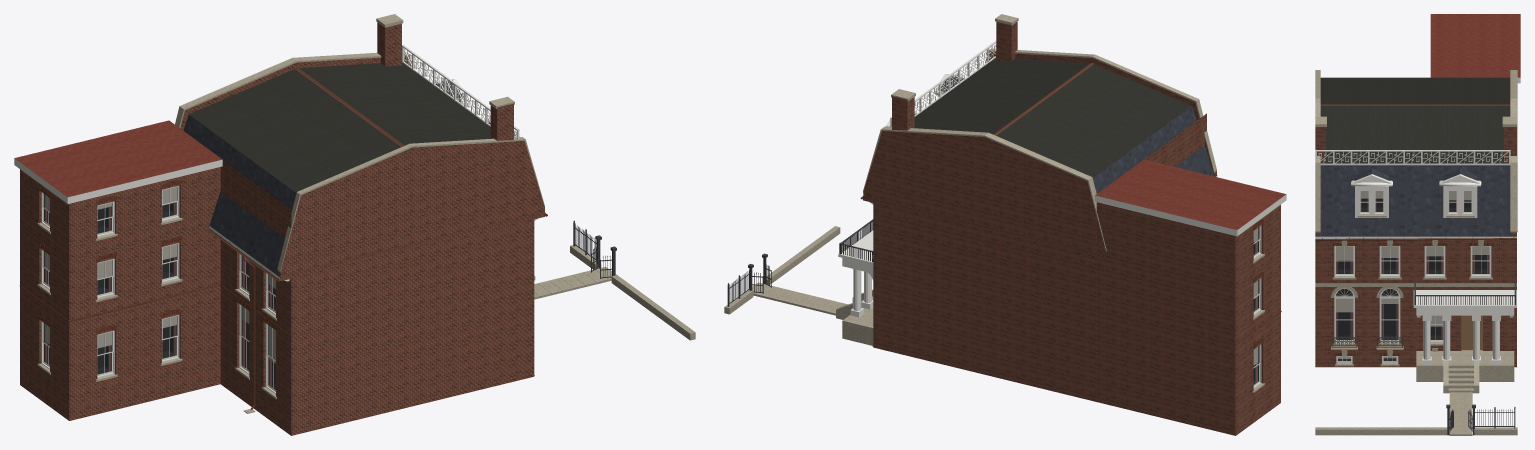
Rendered from glessner_lee_house_1700_prairie__as_mapped_1904.glb.
3 views of the same model, side by side, from view 1: azimuth 30°, elevation 25°; view 2: azimuth 150°, elevation 25°; view 3: azimuth 270°, elevation 25° (orthographic). The views are drawn at different scales.
Parts seen in each view (by area): view 1: glessner_lee_house_1700_prairie__as_mapped_1904; view 2: glessner_lee_house_1700_prairie__as_mapped_1904; view 3: glessner_lee_house_1700_prairie__as_mapped_1904.
Part boxes in pixels (x1,y1,x2,y2): glessner_lee_house_1700_prairie__as_mapped_1904: (14,14,695,435); glessner_lee_house_1700_prairie__as_mapped_1904: (724,14,1286,435); glessner_lee_house_1700_prairie__as_mapped_1904: (1315,14,1520,435).
Size of the model in its own units: 30.35 by 14.55 by 11.4.
Materials: 22 (11 with a texture image).
